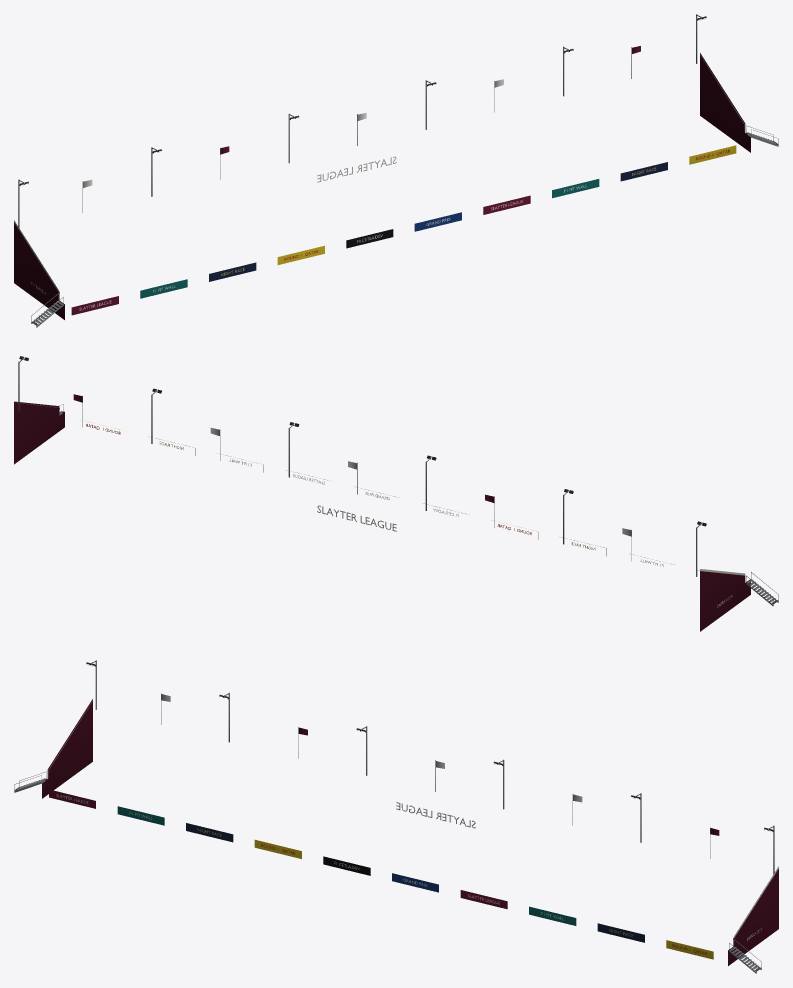
File: stand_academy_shell.glb
3 renders of one model, top to bottom at view 1: azimuth 30°, elevation 25°; view 2: azimuth 150°, elevation 25°; view 3: azimuth 330°, elevation 25°, orthographic.
Visible parts, largest first — view 1: stand_academy_shell; view 2: stand_academy_shell; view 3: stand_academy_shell.
Part boxes in pixels (x1,y1,x2,y2): stand_academy_shell: (14,14,778,327); stand_academy_shell: (14,356,778,631); stand_academy_shell: (14,660,778,973).
Bounding box in the file's own units: 107 × 14.48 × 12.77.
